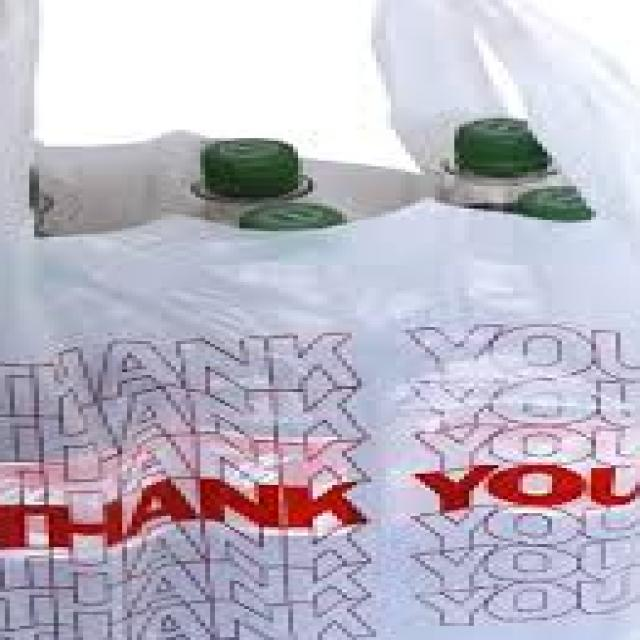organic: (6, 1, 611, 608)
